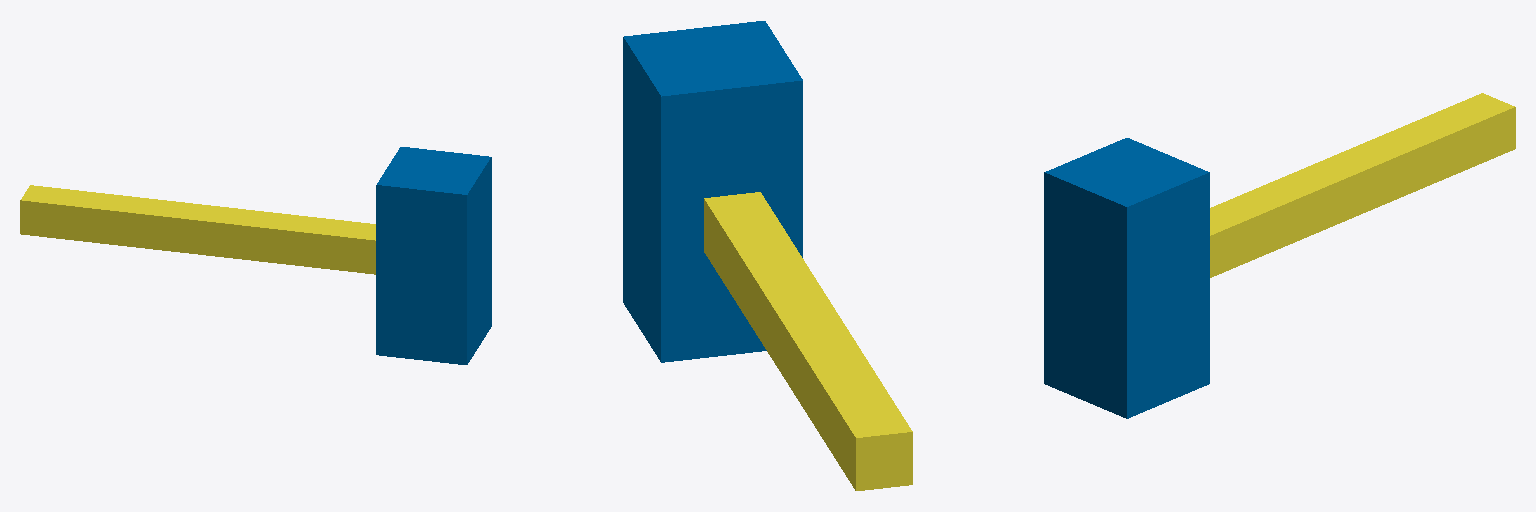
robot.urdf — panda:
<?xml version="1.0" ?>
<!-- =================================================================================== -->
<!-- |    This document was autogenerated by xacro from /opt/ros/kinetic/share/moveit_resources/panda_description/urdf/panda.urdf | -->
<!-- |    EDITING THIS FILE BY HAND IS NOT RECOMMENDED                                 | -->
<!-- =================================================================================== -->
<robot name="panda" xmlns:xacro="http://www.ros.org/wiki/xacro">
    <link name="l1">
        <inertial>
            <mass value="1e-6"/>
            <inertia ixx="1e-6" ixy="1e-6" ixz="1e-6" iyy="1e-6" iyz="1e-6" izz="1e-6"/>
        </inertial>
    </link>
    <link name="l2">
        <inertial>
            <mass value="1e-6"/>
            <inertia ixx="1e-6" ixy="1e-6" ixz="1e-6" iyy="1e-6" iyz="1e-6" izz="1e-6"/>
        </inertial>
    </link>
    <link name="panda_link0">
        <visual>
            <geometry>
                <mesh filename="package://meshes/visual/link0.dae" />
            </geometry>
        </visual>
        <collision>
            <geometry>
                <mesh filename="package://meshes/collision/link0.stl" />
            </geometry>
        </collision>
    </link>

        <joint name="j1" type="prismatic">
        <parent link="l1"/>
        <child link="l2"/>
        <origin xyz="0 0 0" rpy="0 0 0"/>
        <axis xyz="1 0 0"/>
        <limit effort="30" velocity="1.0" lower="-3.14" upper="3.14" />
    </joint>
    <joint name="j2" type="prismatic">
        <parent link="l2"/>
        <child link="panda_link0"/>
        <origin xyz="0 0 0" rpy="0 0 0"/>
        <axis xyz="0 1 0"/>
        <limit effort="30" velocity="1.0" lower="-3.14" upper="3.14" />
    </joint>

    <link name="panda_link1">
        <visual>
            <geometry>
                <mesh filename="package://meshes/visual/link1.dae" />
            </geometry>
        </visual>
        <collision>
            <geometry>
                <mesh filename="package://meshes/collision/link1.stl" />
            </geometry>
        </collision>
    </link>
    <joint name="panda_joint1" type="revolute">
        <safety_controller k_position="100.0" k_velocity="40.0" soft_lower_limit="-2.8973" soft_upper_limit="2.8973" />
        <origin rpy="0 0 0" xyz="0 0 0.333" />
        <parent link="panda_link0" />
        <child link="panda_link1" />
        <axis xyz="0 0 1" />
        <limit effort="87" lower="-2.9671" upper="2.9671" velocity="2.3925" />
    </joint>
    <link name="panda_link2">
        <visual>
            <geometry>
                <mesh filename="package://meshes/visual/link2.dae" />
            </geometry>
        </visual>
        <collision>
            <geometry>
                <mesh filename="package://meshes/collision/link2.stl" />
            </geometry>
        </collision>
    </link>
    <joint name="panda_joint2" type="revolute">
        <safety_controller k_position="100.0" k_velocity="40.0" soft_lower_limit="-1.7628" soft_upper_limit="1.7628" />
        <origin rpy="-1.57079632679 0 0" xyz="0 0 0" />
        <parent link="panda_link1" />
        <child link="panda_link2" />
        <axis xyz="0 0 1" />
        <limit effort="87" lower="-1.8326" upper="1.8326" velocity="2.3925" />
    </joint>
    <link name="panda_link3">
        <visual>
            <geometry>
                <mesh filename="package://meshes/visual/link3.dae" />
            </geometry>
        </visual>
        <collision>
            <geometry>
                <mesh filename="package://meshes/collision/link3.stl" />
            </geometry>
        </collision>
    </link>
    <joint name="panda_joint3" type="revolute">
        <safety_controller k_position="100.0" k_velocity="40.0" soft_lower_limit="-2.8973" soft_upper_limit="2.8973" />
        <origin rpy="1.57079632679 0 0" xyz="0 -0.316 0" />
        <parent link="panda_link2" />
        <child link="panda_link3" />
        <axis xyz="0 0 1" />
        <limit effort="87" lower="-2.9671" upper="2.9671" velocity="2.3925" />
    </joint>
    <link name="panda_link4">
        <visual>
            <geometry>
                <mesh filename="package://meshes/visual/link4.dae" />
            </geometry>
        </visual>
        <collision>
            <geometry>
                <mesh filename="package://meshes/collision/link4.stl" />
            </geometry>
        </collision>
    </link>
    <joint name="panda_joint4" type="revolute">
        <safety_controller k_position="100.0" k_velocity="40.0" soft_lower_limit="-3.0718" soft_upper_limit="0.0175" />
        <origin rpy="1.57079632679 0 0" xyz="0.0825 0 0" />
        <parent link="panda_link3" />
        <child link="panda_link4" />
        <axis xyz="0 0 1" />
        <limit effort="87" lower="-3.1416" upper="0.0873" velocity="2.3925" />
    </joint>
    <link name="panda_link5">
        <visual>
            <geometry>
                <mesh filename="package://meshes/visual/link5.dae" />
            </geometry>
        </visual>
        <collision>
            <geometry>
                <mesh filename="package://meshes/collision/link5.stl" />
            </geometry>
        </collision>
    </link>
    <joint name="panda_joint5" type="revolute">
        <safety_controller k_position="100.0" k_velocity="40.0" soft_lower_limit="-2.8973" soft_upper_limit="2.8973" />
        <origin rpy="-1.57079632679 0 0" xyz="-0.0825 0.384 0" />
        <parent link="panda_link4" />
        <child link="panda_link5" />
        <axis xyz="0 0 1" />
        <limit effort="12" lower="-2.9671" upper="2.9671" velocity="2.8710" />
    </joint>
    <link name="panda_link6">
        <visual>
            <geometry>
                <mesh filename="package://meshes/visual/link6.dae" />
            </geometry>
        </visual>
        <collision>
            <geometry>
                <mesh filename="package://meshes/collision/link6.stl" />
            </geometry>
        </collision>
    </link>
    <joint name="panda_joint6" type="revolute">
        <safety_controller k_position="100.0" k_velocity="40.0" soft_lower_limit="-0.0175" soft_upper_limit="3.7525" />
        <origin rpy="1.57079632679 0 0" xyz="0 0 0" />
        <parent link="panda_link5" />
        <child link="panda_link6" />
        <axis xyz="0 0 1" />
        <limit effort="12" lower="-0.0873" upper="3.8223" velocity="2.8710" />
    </joint>
    <link name="panda_link7">
        <visual>
            <geometry>
                <mesh filename="package://meshes/visual/link7.dae" />
            </geometry>
        </visual>
        <collision>
            <geometry>
                <mesh filename="package://meshes/collision/link7.stl" />
            </geometry>
        </collision>
    </link>
    <joint name="panda_joint7" type="revolute">
        <safety_controller k_position="100.0" k_velocity="40.0" soft_lower_limit="-2.8973" soft_upper_limit="2.8973" />
        <origin rpy="1.57079632679 0 0" xyz="0.088 0 0" />
        <parent link="panda_link6" />
        <child link="panda_link7" />
        <axis xyz="0 0 1" />
        <limit effort="12" lower="-2.9671" upper="2.9671" velocity="2.8710" />
    </joint>
    <link name="panda_link8" />
    <joint name="panda_joint8" type="fixed">
        <origin rpy="0 0 0" xyz="0 0 0.137" />
        <parent link="panda_link7" />
        <child link="panda_link8" />
        <axis xyz="0 0 0" />
    </joint>
    <joint name="panda_spade_joint" type="fixed">
        <parent link="panda_link8" />
        <child link="hammer_handle" />
        <origin rpy="-1.57079632679 0 -0.785398163397" xyz="0 0 0" />
    </joint>
    <link name="hammer_handle">
		<visual>
		    <origin xyz="0 0 0.2" rpy="0 0 0"/>
			<geometry>
				<box size="0.04 0.04 0.4"/>
			</geometry>
		</visual>
	</link>
    <joint name="hammer_handle_tip" type="fixed">
        <parent link="hammer_handle"/>
        <child link="hammer_tip"/>
        <origin xyz="0. 0. 0.45" rpy="0 0 3.14159265"/>
    </joint>

 	<link name="hammer_tip">
		<visual>
		    <origin xyz="0 0 0" rpy="0 0 0"/>
			<geometry>
				<box size="0.1 0.2 0.1"/>
			</geometry>
		</visual>
	</link>

</robot>

--- Render facts (derived) ---
Views: 3 orthographic renders of the robot side by side, from view 1: azimuth 30°, elevation 25°; view 2: azimuth 150°, elevation 25°; view 3: azimuth 270°, elevation 25°.
Model panda with 13 links and 12 joints (7 revolute, 2 prismatic, 3 fixed), rooted at l1, posed all joints at 0.
Visible links, largest first — view 1: hammer_tip, hammer_handle; view 2: hammer_tip, hammer_handle; view 3: hammer_tip, hammer_handle.
Boxes of the visible links, bbox=[...] form: hammer_tip: bbox=[376, 147, 491, 364]; hammer_handle: bbox=[20, 185, 375, 274]; hammer_tip: bbox=[623, 21, 802, 362]; hammer_handle: bbox=[704, 192, 912, 490]; hammer_tip: bbox=[1044, 138, 1209, 418]; hammer_handle: bbox=[1210, 93, 1515, 277].
Bounding box of the posed robot: 0.4031 × 0.4031 × 0.2 m (x, y, z).
Meshes: 8 distinct files referenced, 0 mesh visuals loaded (none loaded); not drawn: 8 (reference not matched to a file when rendering).